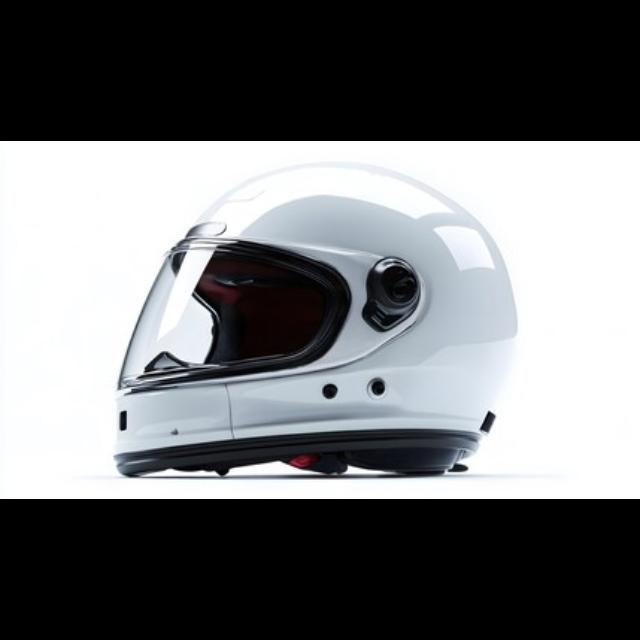motorcycle-helmets: (114, 157, 514, 485)
